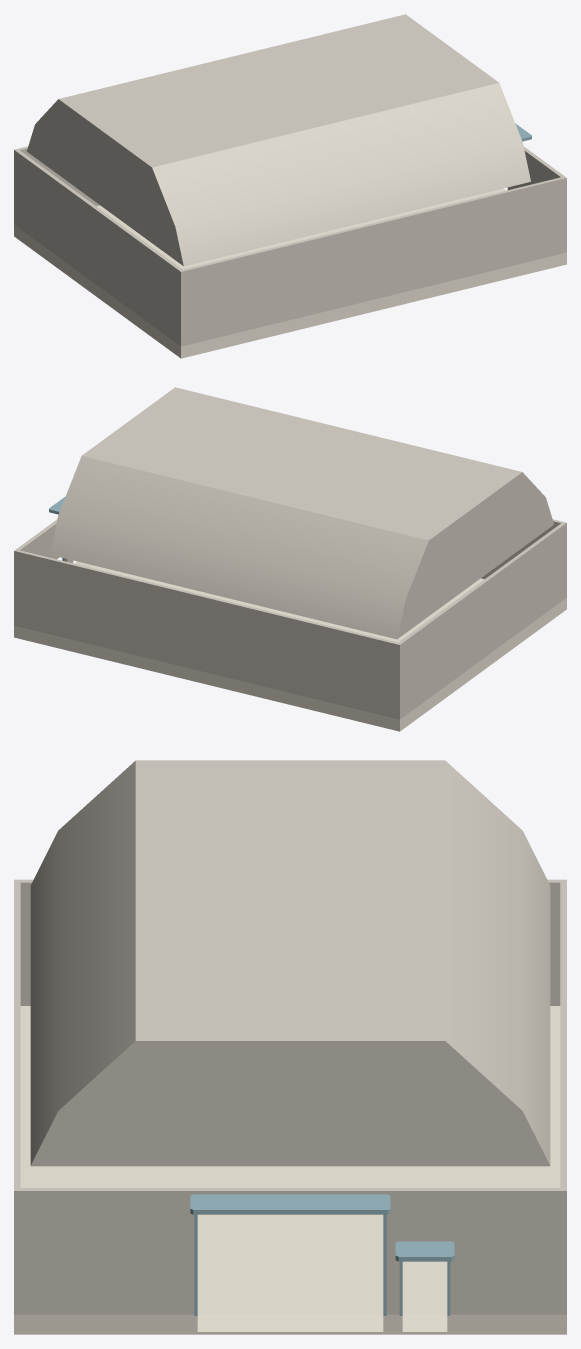
Rendered from Karden_Logistics_ShadowProxy.glb.
The picture shows the model from 3 angles, top to bottom: view 1: azimuth 30°, elevation 25°; view 2: azimuth 150°, elevation 25°; view 3: azimuth 270°, elevation 25°; orthographic projection. The views are drawn at different scales.
Visible parts, largest first — view 1: Karden_Logistics_ShadowProxy / Roof, Karden_Logistics_ShadowProxy / Structure, Karden_Logistics_ShadowProxy / Foundation; view 2: Karden_Logistics_ShadowProxy / Roof, Karden_Logistics_ShadowProxy / Structure, Karden_Logistics_ShadowProxy / Foundation; view 3: Karden_Logistics_ShadowProxy / Roof, Karden_Logistics_ShadowProxy / Structure, Karden_Logistics_ShadowProxy / Foundation, Karden_Logistics_ShadowProxy / Entrance modules.
Part boxes in pixels (left/top/right/bottom): Karden_Logistics_ShadowProxy / Roof: left=27, top=14, right=530, bottom=266; Karden_Logistics_ShadowProxy / Structure: left=14, top=146, right=566, bottom=346; Karden_Logistics_ShadowProxy / Foundation: left=14, top=193, right=566, bottom=358; Karden_Logistics_ShadowProxy / Roof: left=50, top=387, right=553, bottom=639; Karden_Logistics_ShadowProxy / Structure: left=14, top=519, right=566, bottom=719; Karden_Logistics_ShadowProxy / Foundation: left=14, top=566, right=566, bottom=731; Karden_Logistics_ShadowProxy / Roof: left=30, top=760, right=550, bottom=1166; Karden_Logistics_ShadowProxy / Structure: left=14, top=879, right=566, bottom=1314; Karden_Logistics_ShadowProxy / Foundation: left=14, top=1006, right=566, bottom=1334; Karden_Logistics_ShadowProxy / Entrance modules: left=190, top=1194, right=454, bottom=1334.
Bounding box in the file's own units: 25.2 × 9.65 × 18.
